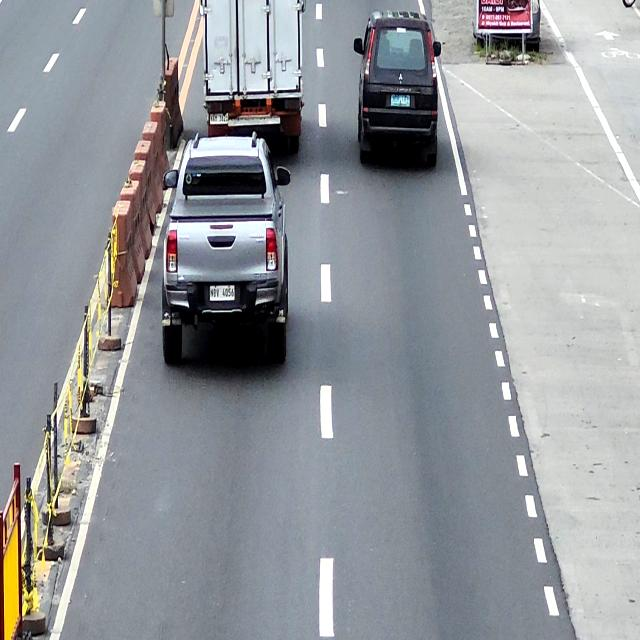Car: (159, 132, 294, 372), (352, 9, 442, 175)
License-Plate: (209, 285, 235, 302), (390, 93, 410, 109), (209, 112, 230, 124)
Truck: (200, 0, 305, 154)
